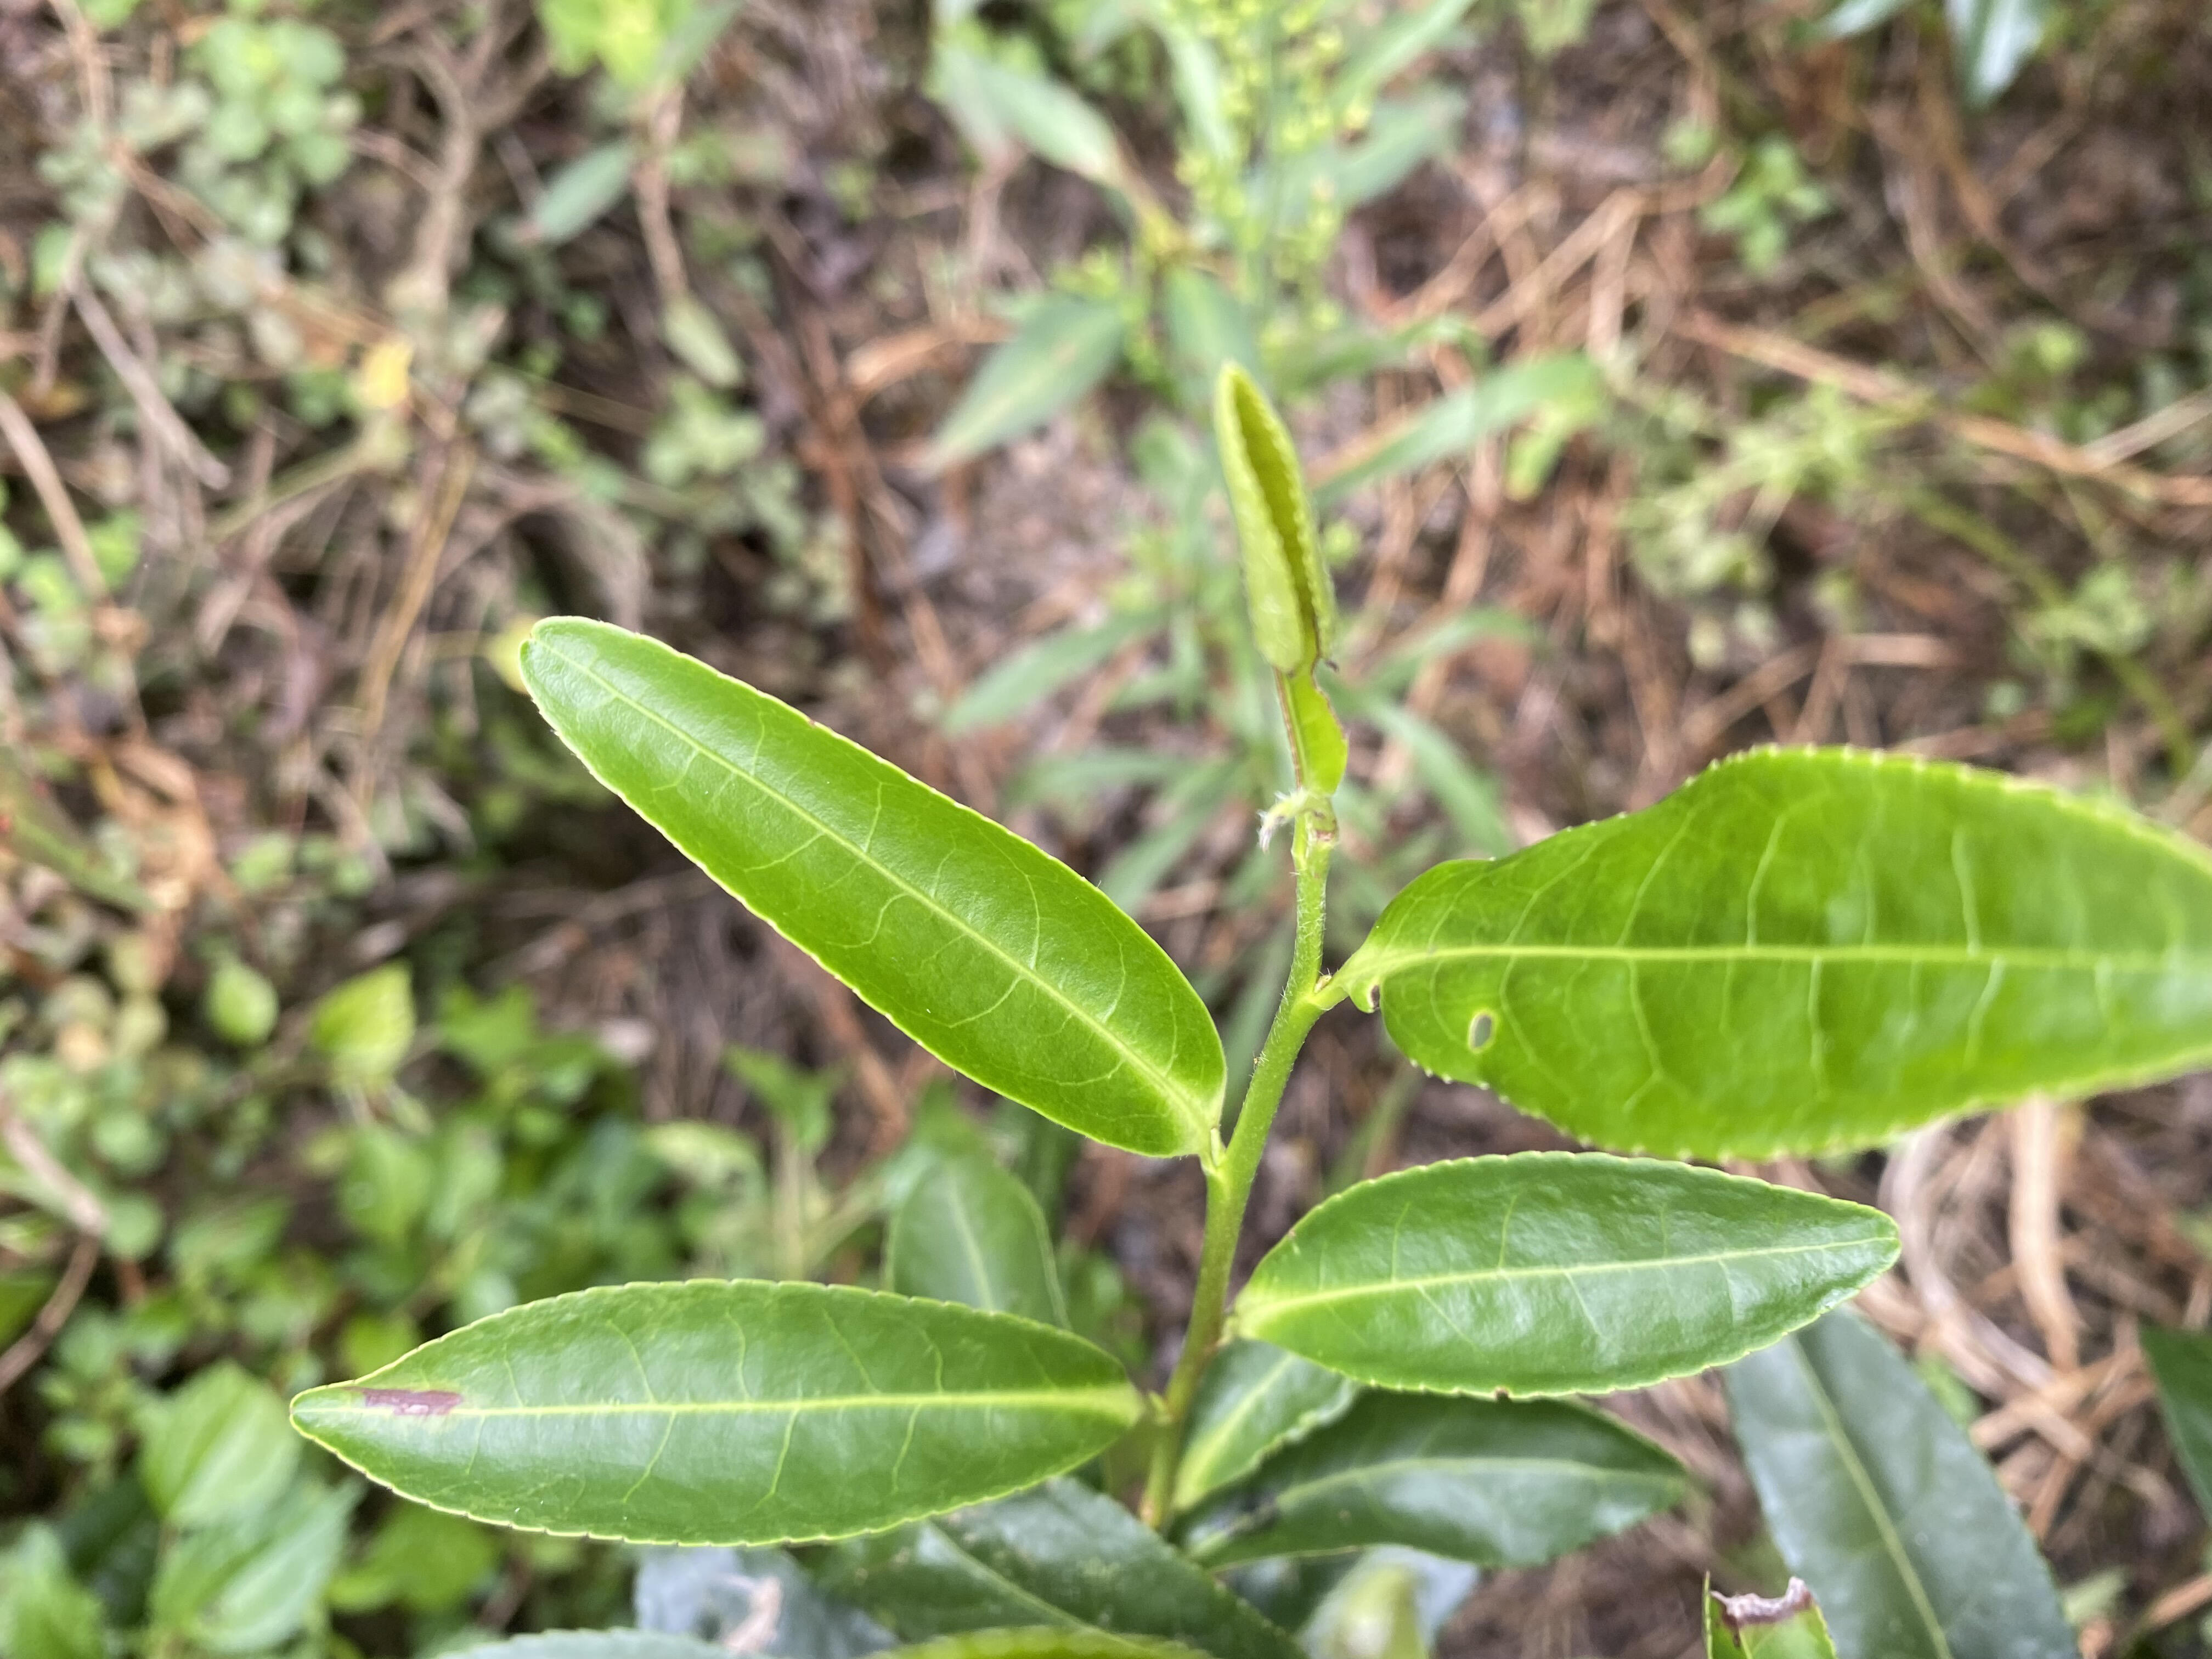chihuo_low: (1353, 744, 2210, 1164)
healthy: (519, 617, 1230, 1161), (1245, 1148, 1902, 1405)
tanju_low: (287, 1279, 1141, 1544)
